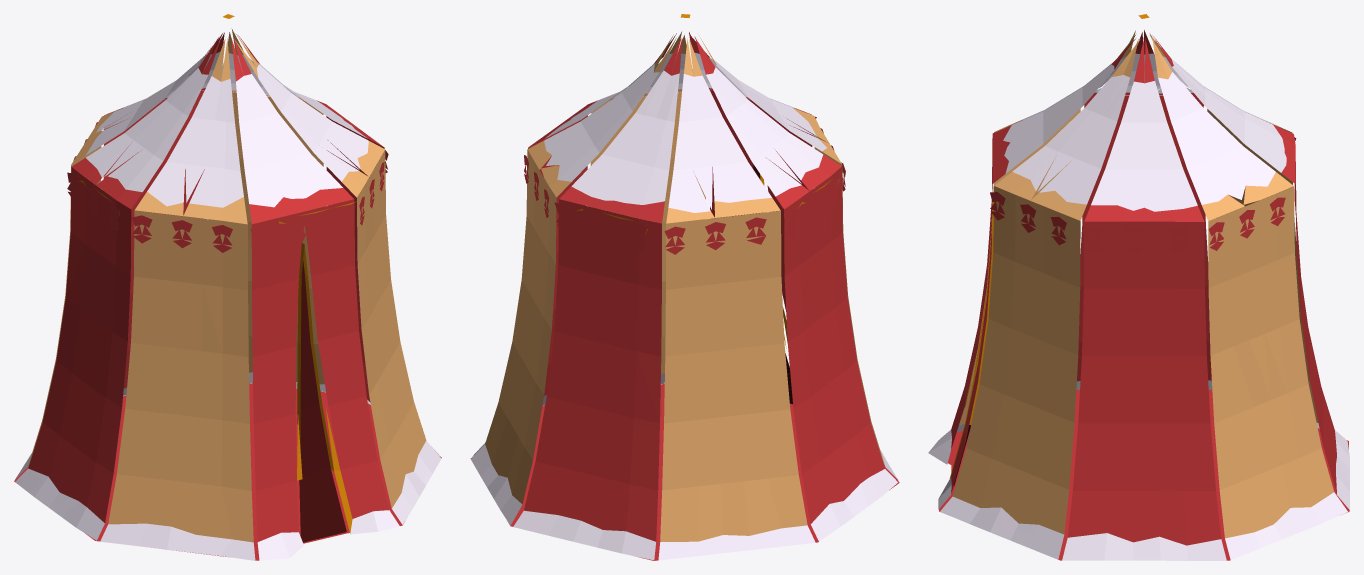
The model's file is decorLarge-village-52.glb.
3 renders of one model, left to right at view 1: azimuth 30°, elevation 25°; view 2: azimuth 150°, elevation 25°; view 3: azimuth 270°, elevation 25°, orthographic.
Visible parts, largest first — view 1: piece; view 2: piece; view 3: piece.
Boxes of the visible parts, left/top/right/bottom form: piece: left=14, top=14, right=441, bottom=560; piece: left=470, top=14, right=899, bottom=560; piece: left=928, top=14, right=1349, bottom=560.
Bounding box in the file's own units: 2.67 × 3.33 × 2.78.
1 material, 1 textured.
